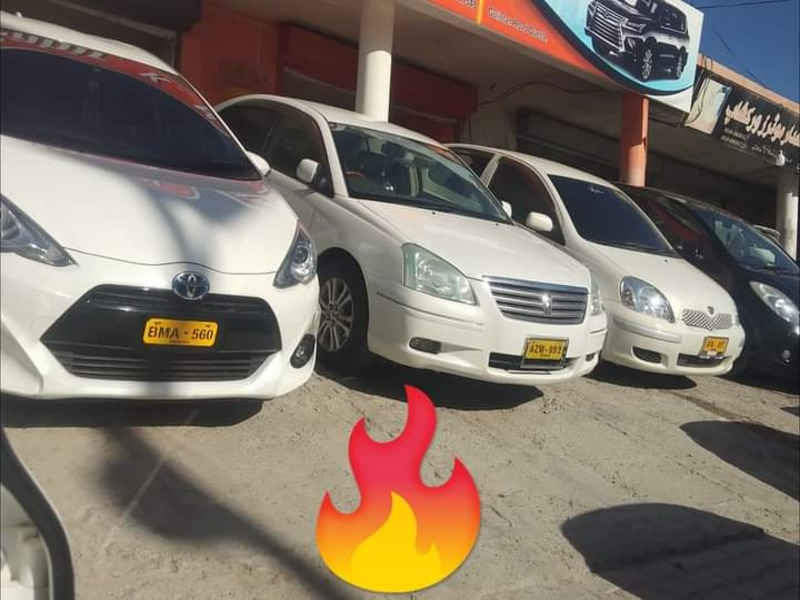License Plate: (139, 314, 218, 352), (522, 334, 572, 374), (700, 332, 732, 365)
